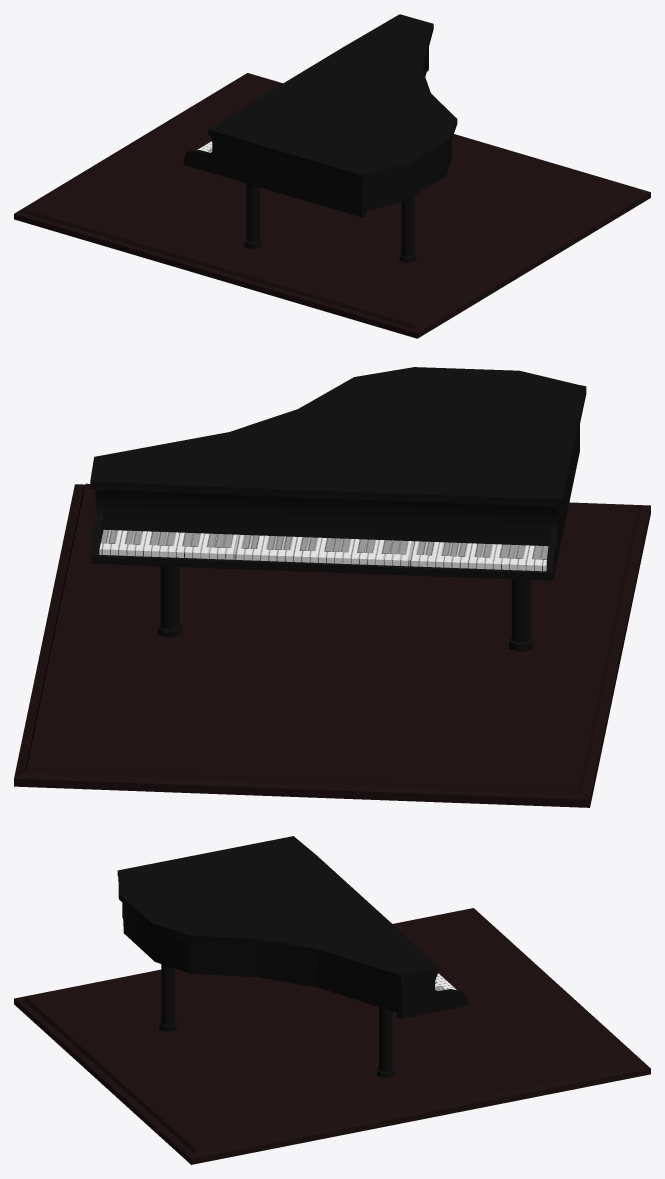
Rendered from Piano.FBX.
3 views of the same model, one above another, from view 1: azimuth 30°, elevation 25°; view 2: azimuth 150°, elevation 25°; view 3: azimuth 270°, elevation 25° (orthographic). The views are drawn at different scales.
Visible parts, largest first — view 1: Box161, Box162; view 2: Box161, Box162; view 3: Box161, Box162.
Part boxes in pixels (x1,y1,x2,y2): Box161: (14, 73, 650, 338); Box162: (183, 14, 457, 262); Box161: (14, 483, 650, 807); Box162: (90, 367, 586, 651); Box161: (14, 908, 650, 1164); Box162: (117, 836, 467, 1077).
Bounding box in the file's own units: 86.04 × 20.99 × 92.19.
2 materials, 2 textured.
